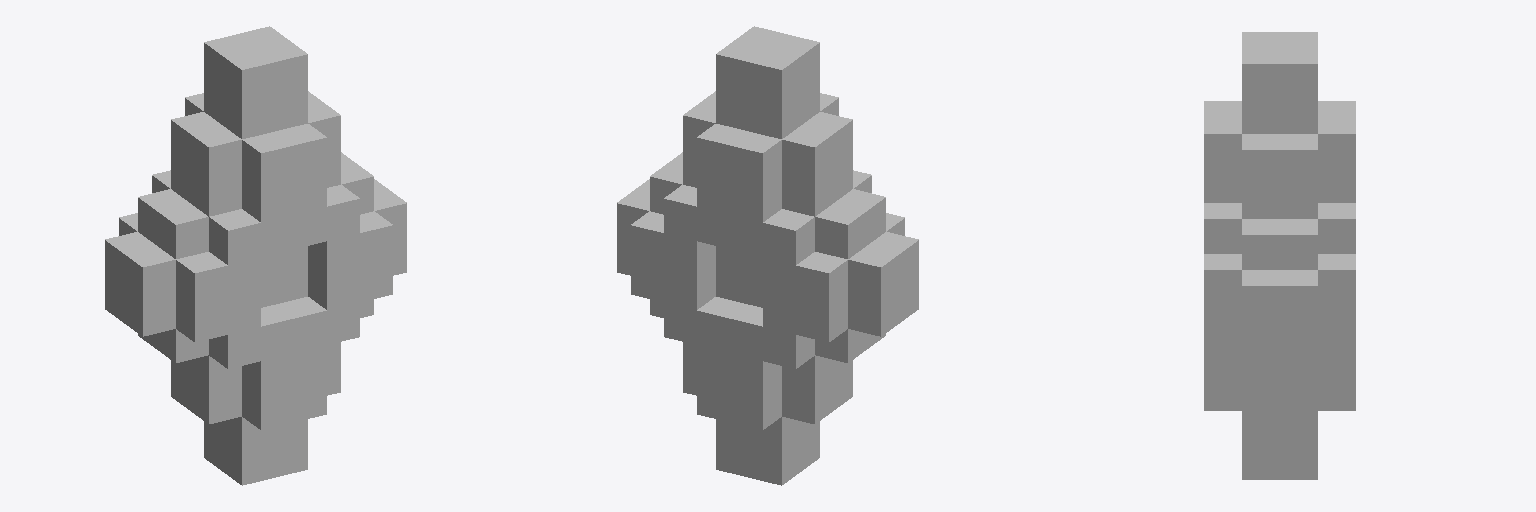
Rendered from money.obj.
3 views of the same model, side by side, from view 1: azimuth 30°, elevation 25°; view 2: azimuth 150°, elevation 25°; view 3: azimuth 270°, elevation 25° (orthographic).
Size of the model in its own units: 8 by 12 by 4.